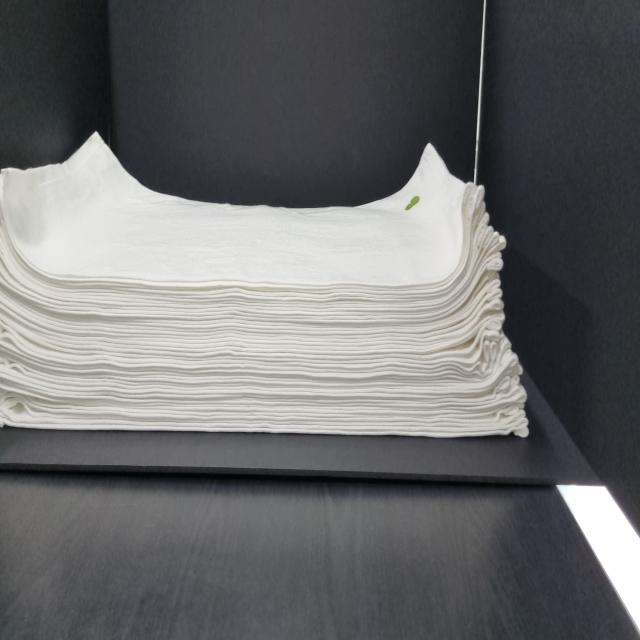not_50count_towel: (0, 125, 540, 453)
